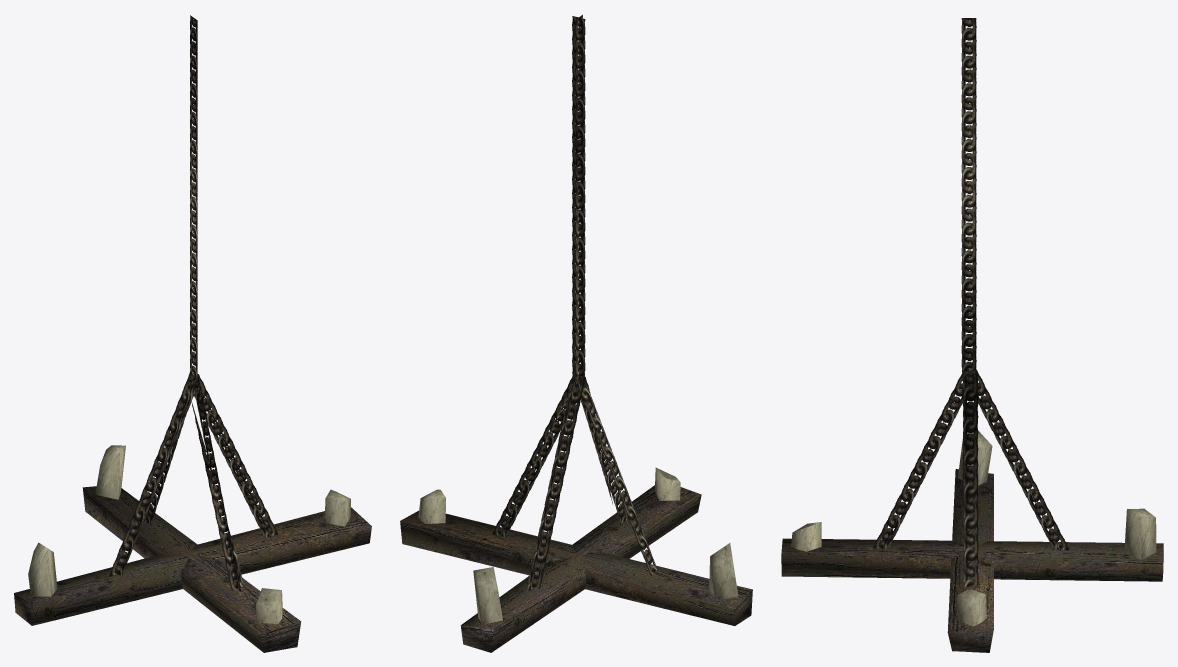
File: OC_BIGLIGHTER_01.glb
The picture shows the model from 3 angles, left to right: view 1: azimuth 30°, elevation 25°; view 2: azimuth 150°, elevation 25°; view 3: azimuth 270°, elevation 25°; orthographic projection.
Parts seen in each view (by area): view 1: Mesh; view 2: Mesh; view 3: Mesh.
Boxes of the visible parts, x1,y1,x2,y2 form: Mesh: (14, 15, 371, 652); Mesh: (400, 14, 752, 652); Mesh: (781, 18, 1163, 652).
Size of the model in its own units: 1.4 by 2.25 by 1.4.
Materials: 3 (3 with a texture image).
